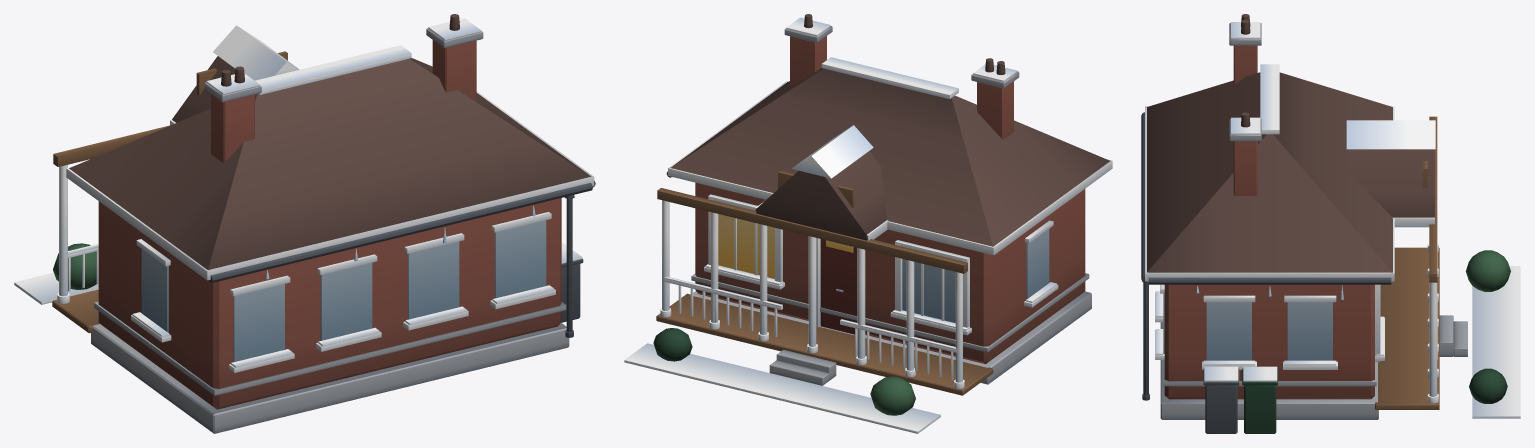
Rendered from ck_house_bungalow.fbx.
3 views of the same model, side by side, from view 1: azimuth 30°, elevation 25°; view 2: azimuth 150°, elevation 25°; view 3: azimuth 270°, elevation 25° (orthographic). The views are drawn at different scales.
Visible parts, largest first — view 1: ck_house_bungalow; view 2: ck_house_bungalow; view 3: ck_house_bungalow.
Boxes of the visible parts, box(x1,y1,x2,y2) form: ck_house_bungalow: box(14, 14, 595, 433); ck_house_bungalow: box(624, 14, 1112, 433); ck_house_bungalow: box(1141, 14, 1520, 433).
Bounding box in the file's own units: 2500 × 1833 × 2266.
